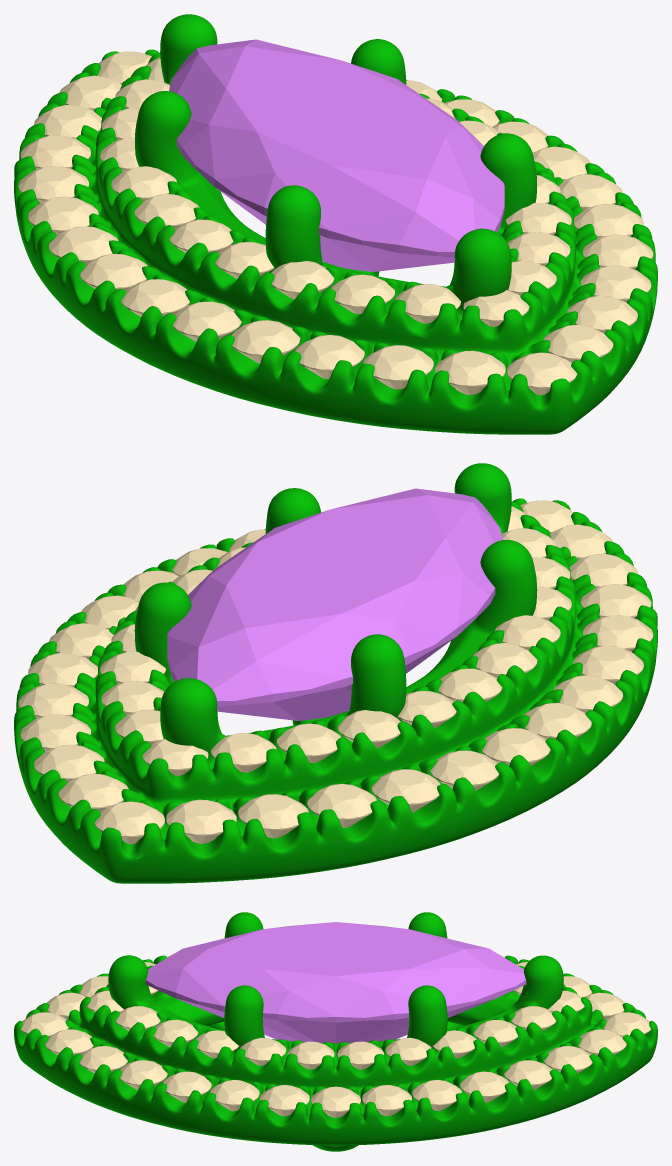
3 renders of one model, top to bottom at view 1: azimuth 30°, elevation 25°; view 2: azimuth 150°, elevation 25°; view 3: azimuth 270°, elevation 25°, orthographic. The views are drawn at different scales.
Parts seen in each view (by area): view 1: Metal01, Diamond_Marquise, Diamond_Round.002, Diamond_Round.001, Diamond_Round.027, Diamond_Round, Diamond_Round.026, Diamond_Round.025, Diamond_Round.003, Diamond_Round.004, Diamond_Round.024, Diamond_Round.022 (+28 smaller); view 2: Metal01, Diamond_Marquise, Diamond_Round.018, Diamond_Round.019, Diamond_Round.021, Diamond_Round.020, Diamond_Round.022, Diamond_Round.023, Diamond_Round.017, Diamond_Round.016, Diamond_Round.024, Diamond_Round.026 (+28 smaller); view 3: Metal01, Diamond_Marquise, Diamond_Round.009, Diamond_Round.011, Diamond_Round.010, Diamond_Round.008, Diamond_Round.012, Diamond_Round.007, Diamond_Round.013, Diamond_Round.014, Diamond_Round.006, Diamond_Round.005 (+21 smaller).
Boxes of the visible parts, <box> form: Metal01: <box>14,14,657,434</box>; Diamond_Marquise: <box>169,39,504,271</box>; Diamond_Round.002: <box>435,350,505,394</box>; Diamond_Round.001: <box>363,345,433,389</box>; Diamond_Round.027: <box>231,320,300,363</box>; Diamond_Round: <box>295,335,364,378</box>; Diamond_Round.026: <box>173,301,241,341</box>; Diamond_Round.025: <box>121,279,189,316</box>; Diamond_Round.003: <box>507,352,577,395</box>; Diamond_Round.004: <box>543,324,613,362</box>; Diamond_Round.024: <box>80,254,147,290</box>; Diamond_Round.022: <box>28,196,98,235</box>; Metal01: <box>14,463,657,883</box>; Diamond_Marquise: <box>167,488,502,720</box>; Diamond_Round.018: <box>166,799,236,843</box>; Diamond_Round.019: <box>238,794,308,838</box>; Diamond_Round.021: <box>371,769,440,812</box>; Diamond_Round.020: <box>307,784,376,827</box>; Diamond_Round.022: <box>430,750,499,790</box>; Diamond_Round.023: <box>482,728,550,765</box>; Diamond_Round.017: <box>94,801,164,844</box>; Diamond_Round.016: <box>58,773,128,811</box>; Diamond_Round.024: <box>524,703,591,739</box>; Diamond_Round.026: <box>573,645,643,684</box>; Metal01: <box>14,912,657,1151</box>; Diamond_Marquise: <box>145,922,526,1043</box>; Diamond_Round.009: <box>260,1085,309,1116</box>; Diamond_Round.011: <box>362,1085,411,1116</box>; Diamond_Round.010: <box>311,1086,360,1117</box>; Diamond_Round.008: <box>210,1080,259,1111</box>; Diamond_Round.012: <box>412,1080,461,1111</box>; Diamond_Round.007: <box>163,1071,211,1102</box>; Diamond_Round.013: <box>460,1071,509,1102</box>; Diamond_Round.014: <box>504,1060,551,1090</box>; Diamond_Round.006: <box>120,1060,167,1090</box>; Diamond_Round.005: <box>79,1046,127,1073</box>.
Bounding box in the file's own units: 12.48 × 6.57 × 19.39.
